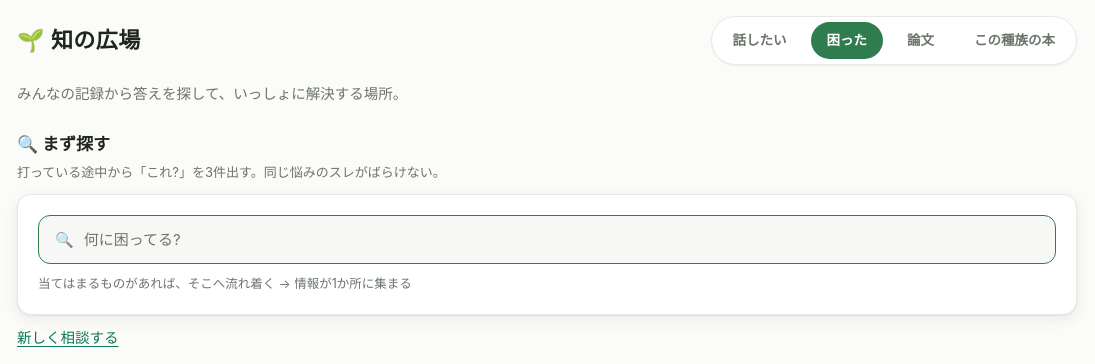
Test: KnowledgeHubNode — T-70 KNW wave1 (mockup verbatim adoption) › 話したい tab shows a lead line + a card linking to 公式掲示板
Click the button "話したい".
click(760, 40)  # box left=716, top=22, right=802, bottom=59
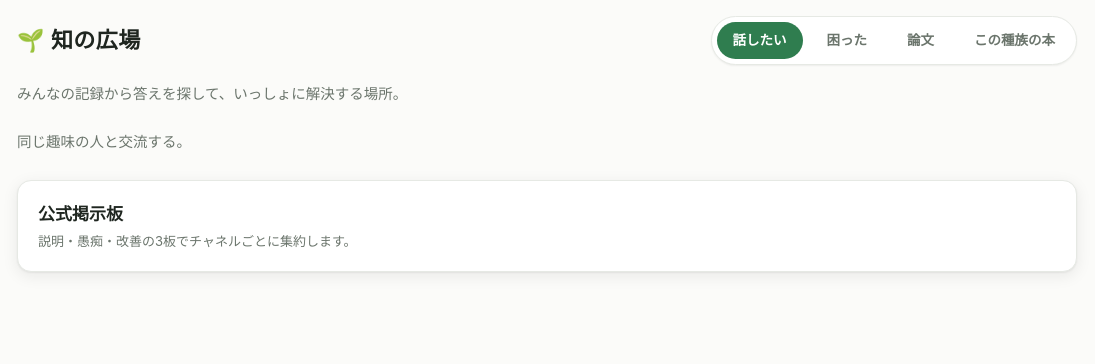
Check: the text "同じ趣味の人と交流する。" is shown, box left=17, top=133, right=191, bottom=150
Check: the search field with placeholder "何に困ってる?" is gone
